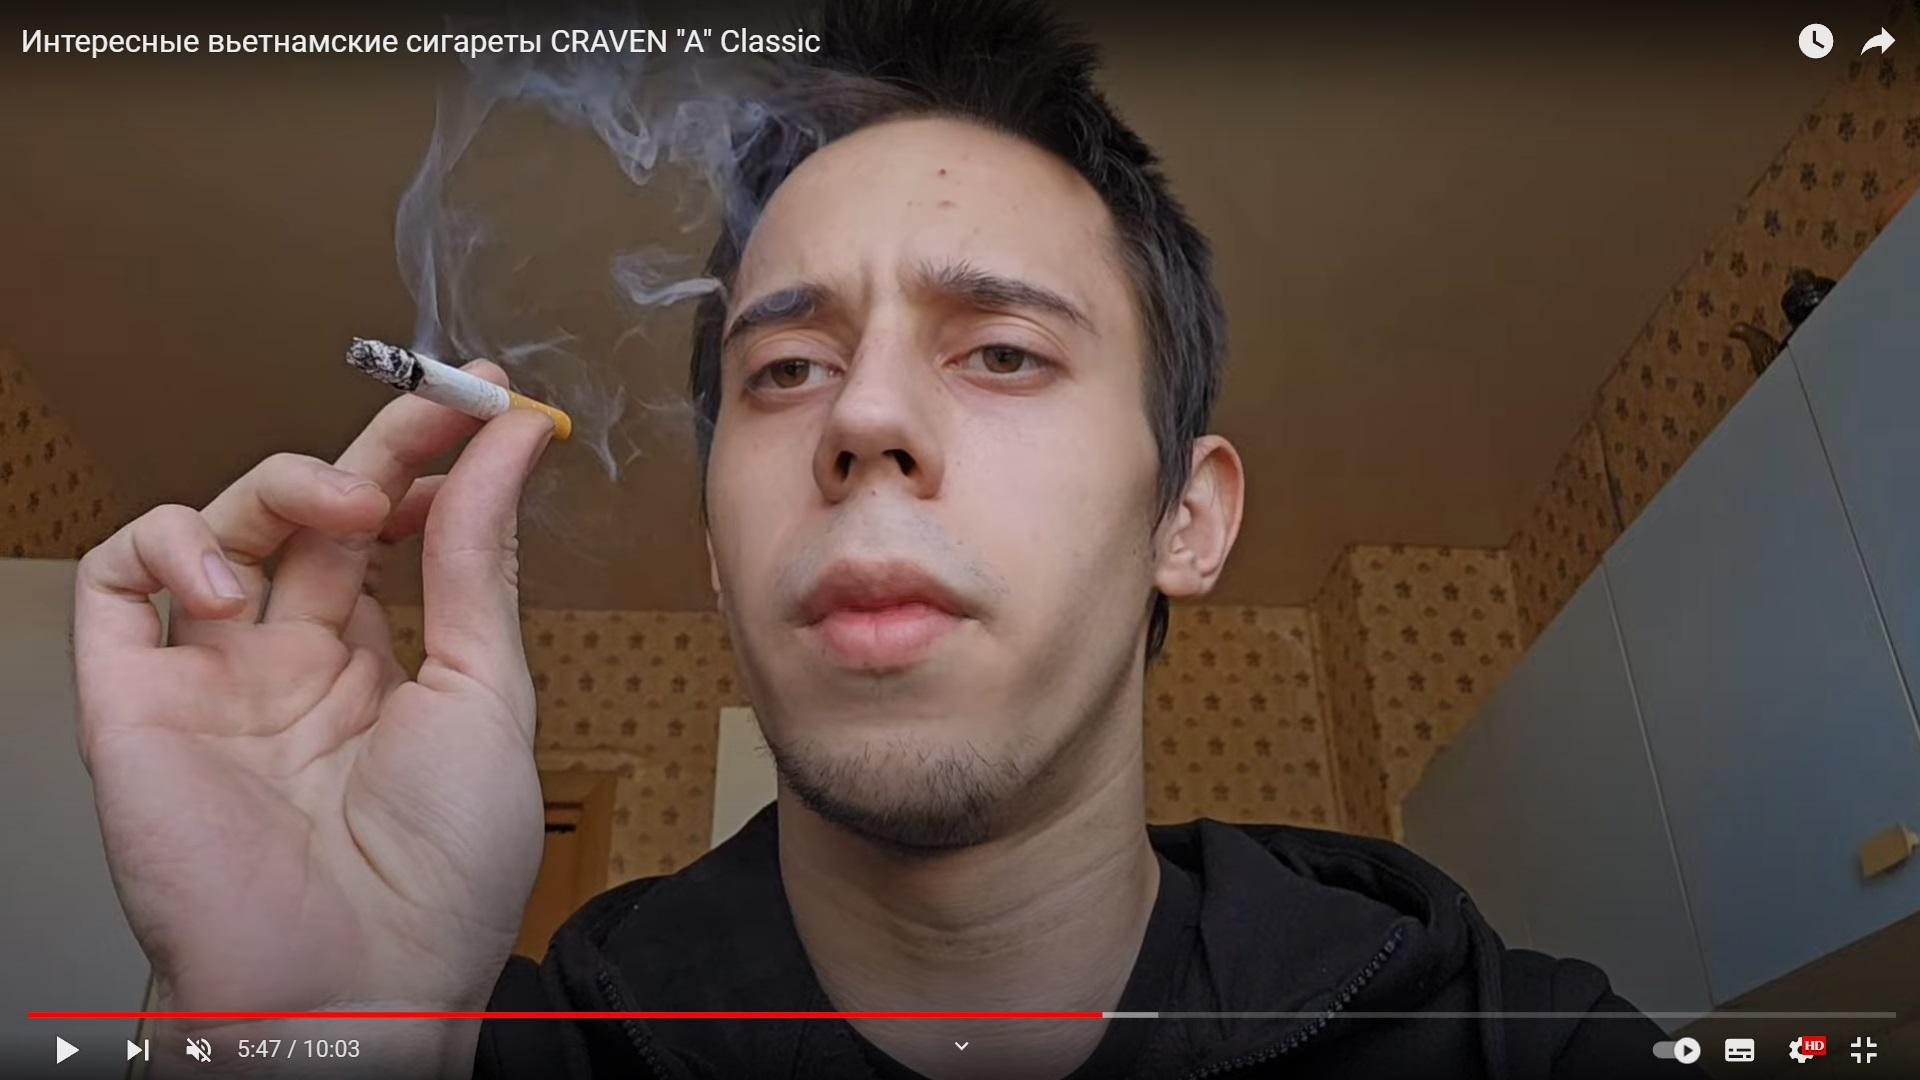cigarette: (342, 336, 574, 442)
